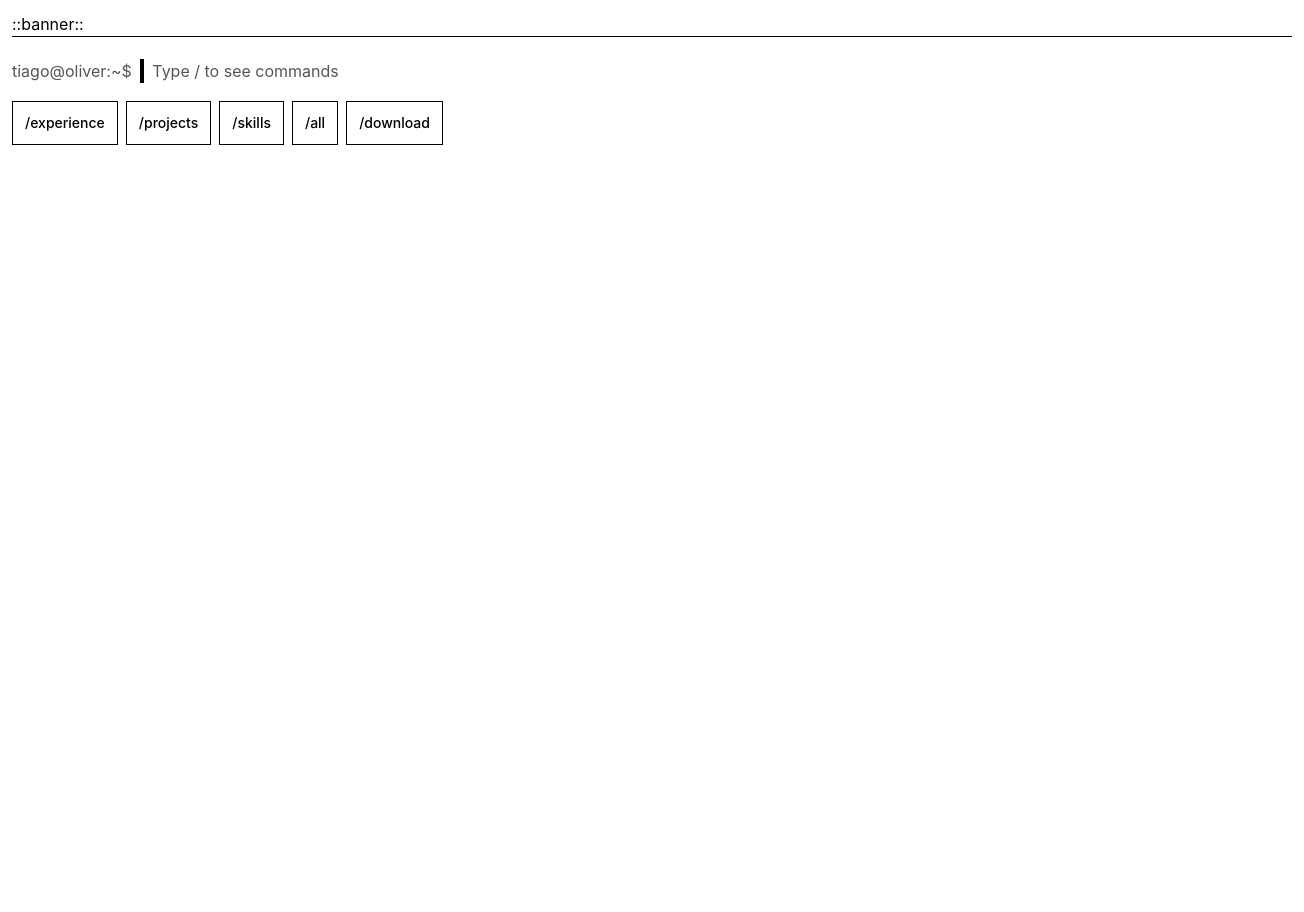
Test: Terminal › Given the help output, should run a command clicked in the list
This screenshot has width=1304, height=912.
Type "help" into the dropdown named "Command".
click(716, 71); type("help")  # box [140,49,1292,93]
Then press Enter
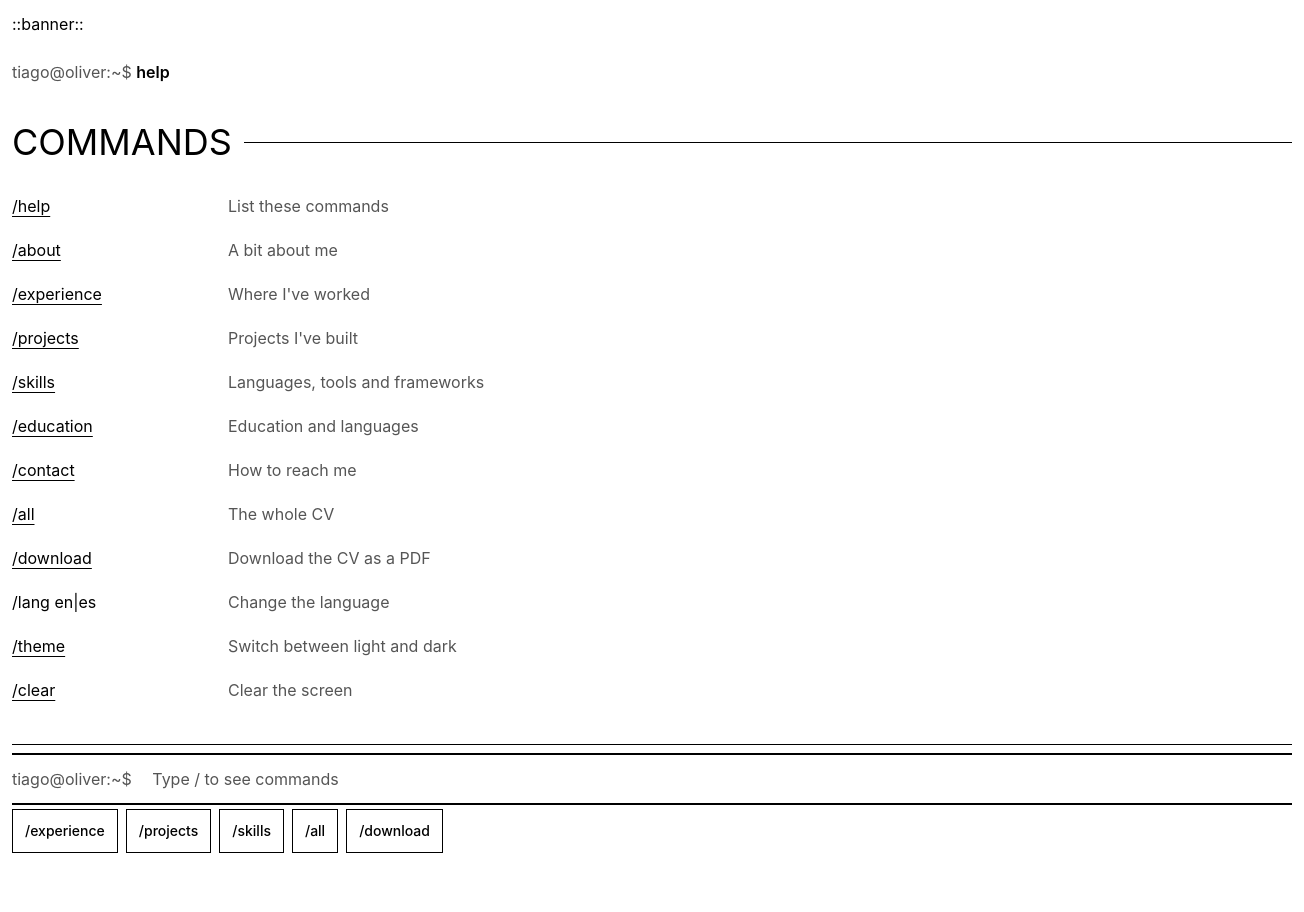
Click the button "/contact".
click(43, 470)  # box [12,448,75,492]
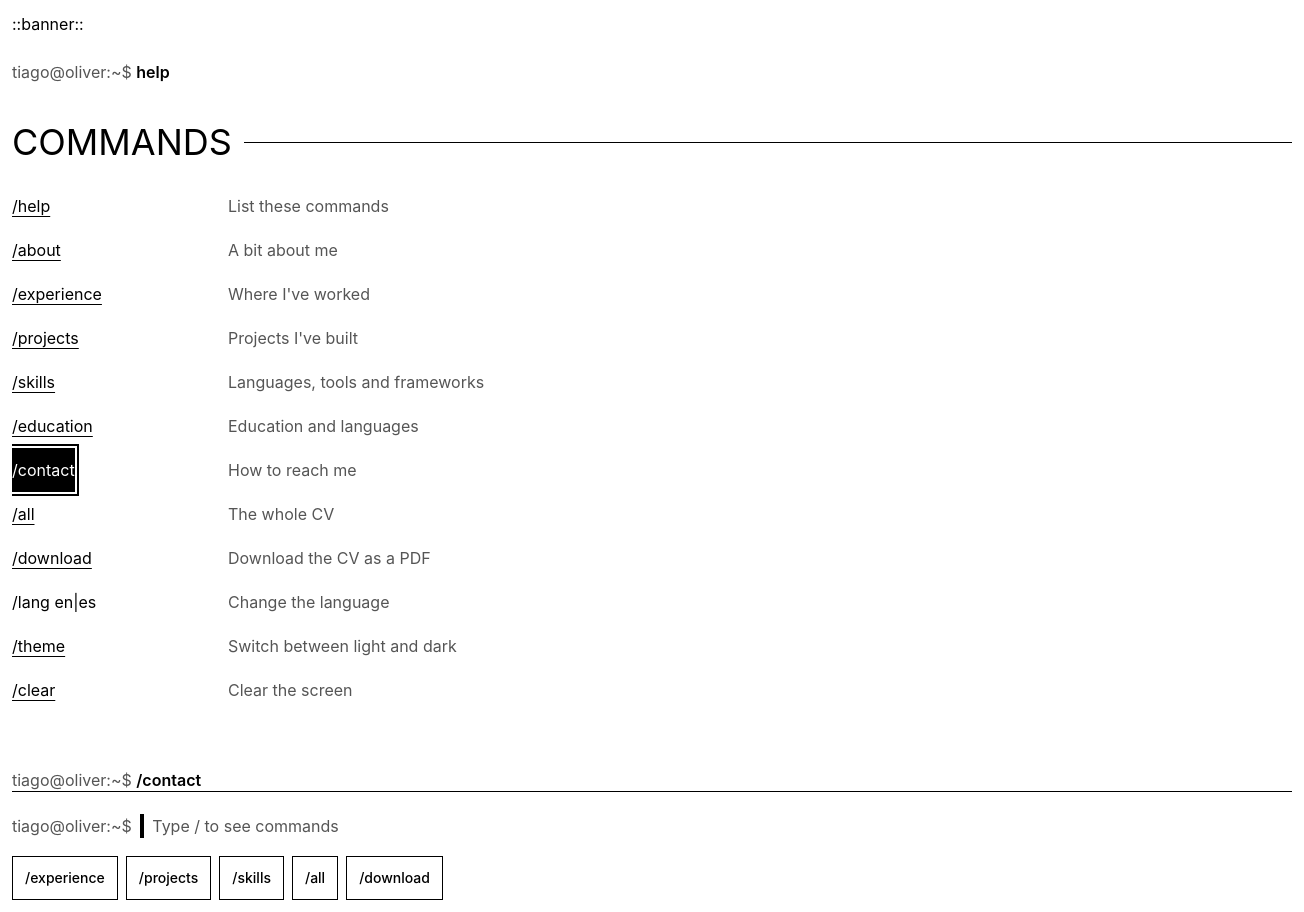
expect the heading "Contact" is shown: met, box [12,828,186,872]
